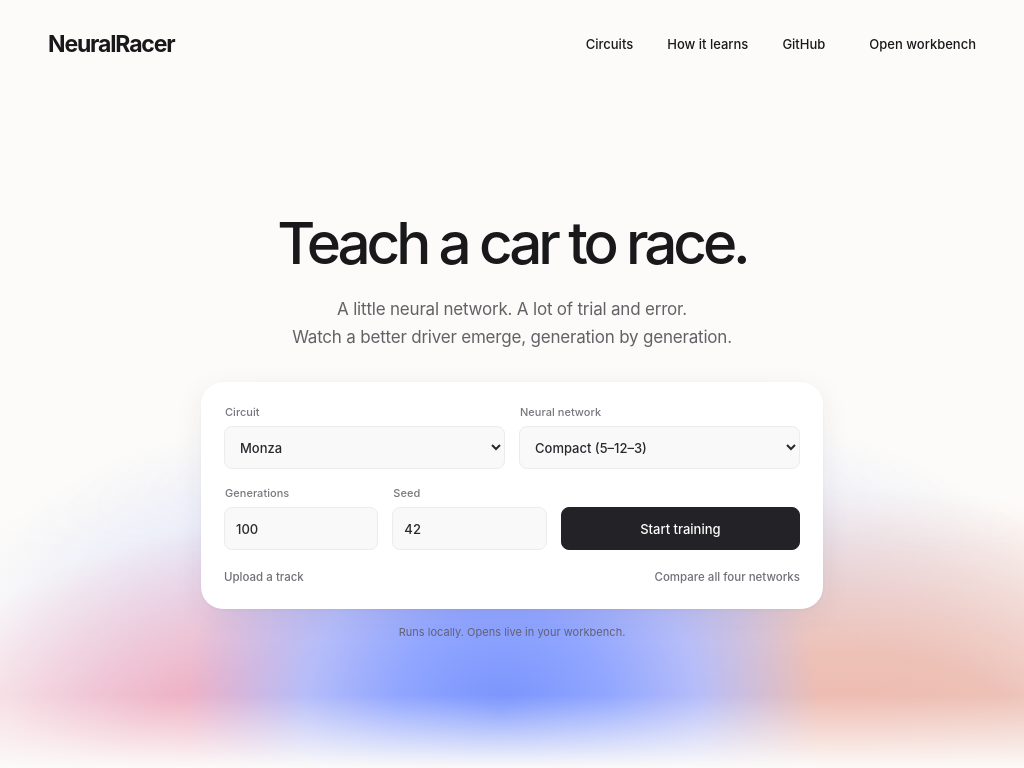
keeps user settings visible when launch fails and does not navigate
Replace the text in the number field labelled "Seed" with "21" at coordinates (470, 528), box top-left (392, 507), bottom-right (547, 550)
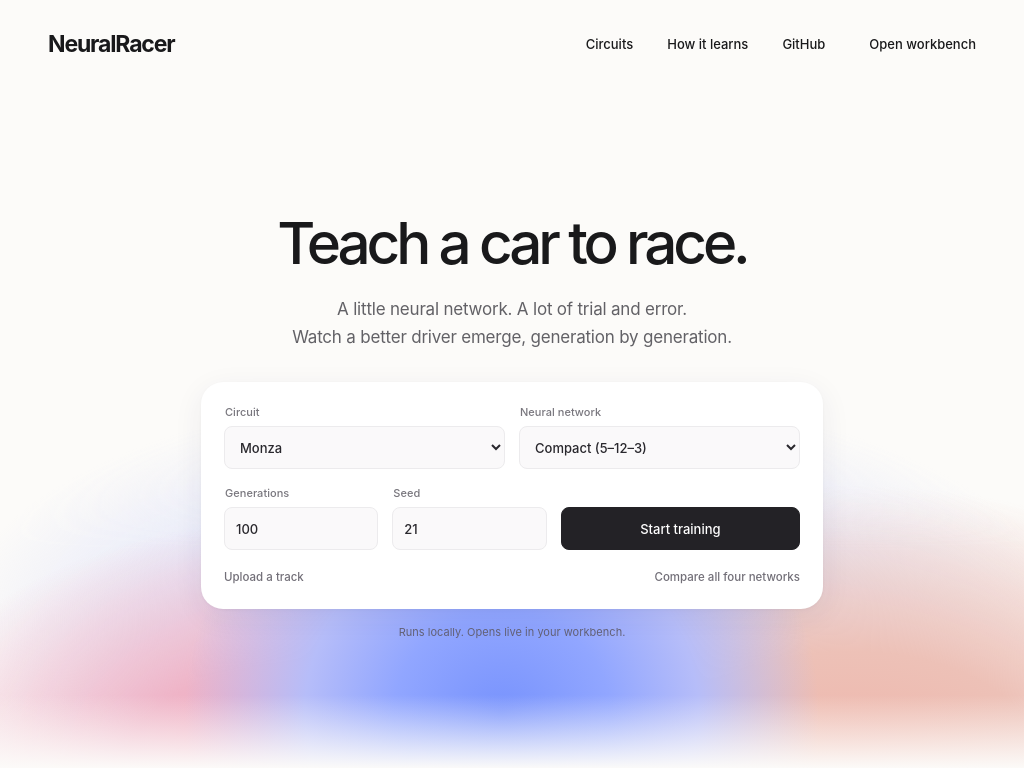
Select "Deep (5–16–12–3)" in the dropdown labelled "Neural network" at coordinates (660, 448), box top-left (519, 426), bottom-right (800, 469)
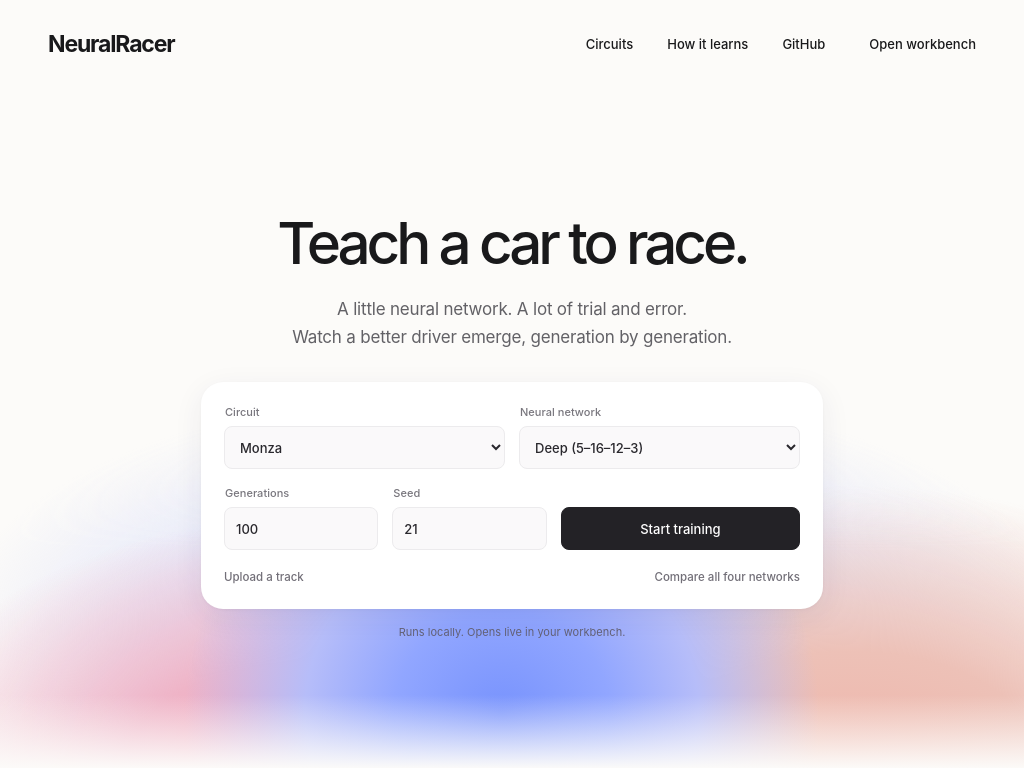
Click the button "Start training" at coordinates (680, 528), box top-left (561, 507), bottom-right (800, 550)
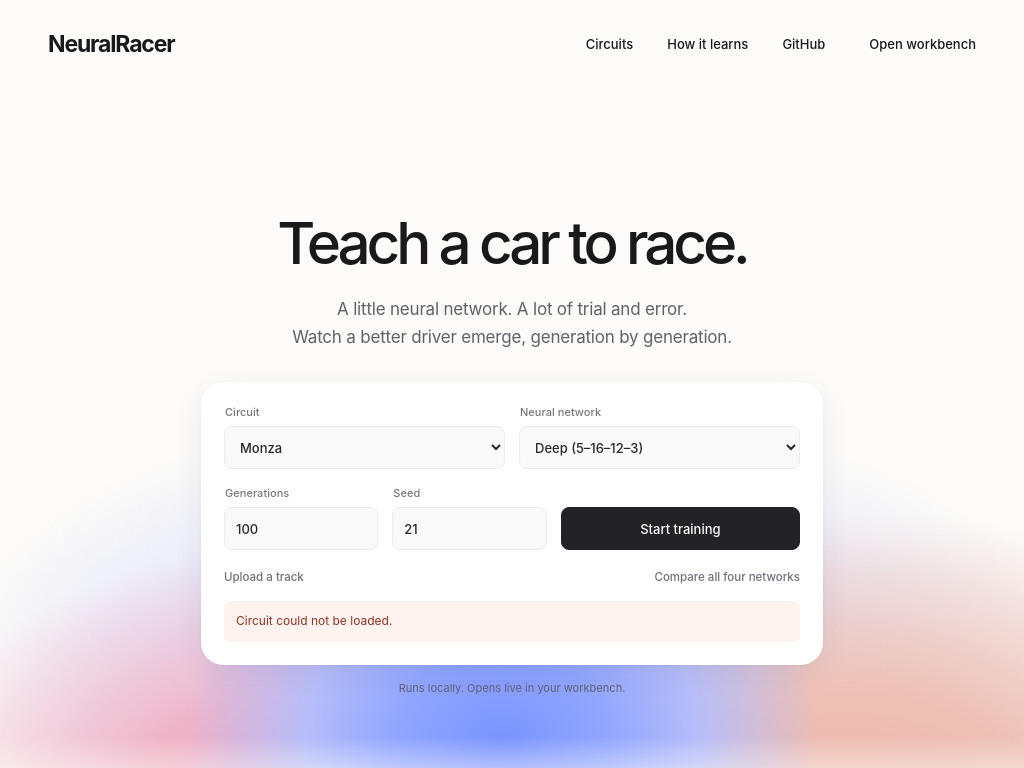
Expected: the message reads "Circuit could not be loaded.", top-left (236, 613), bottom-right (392, 628)
